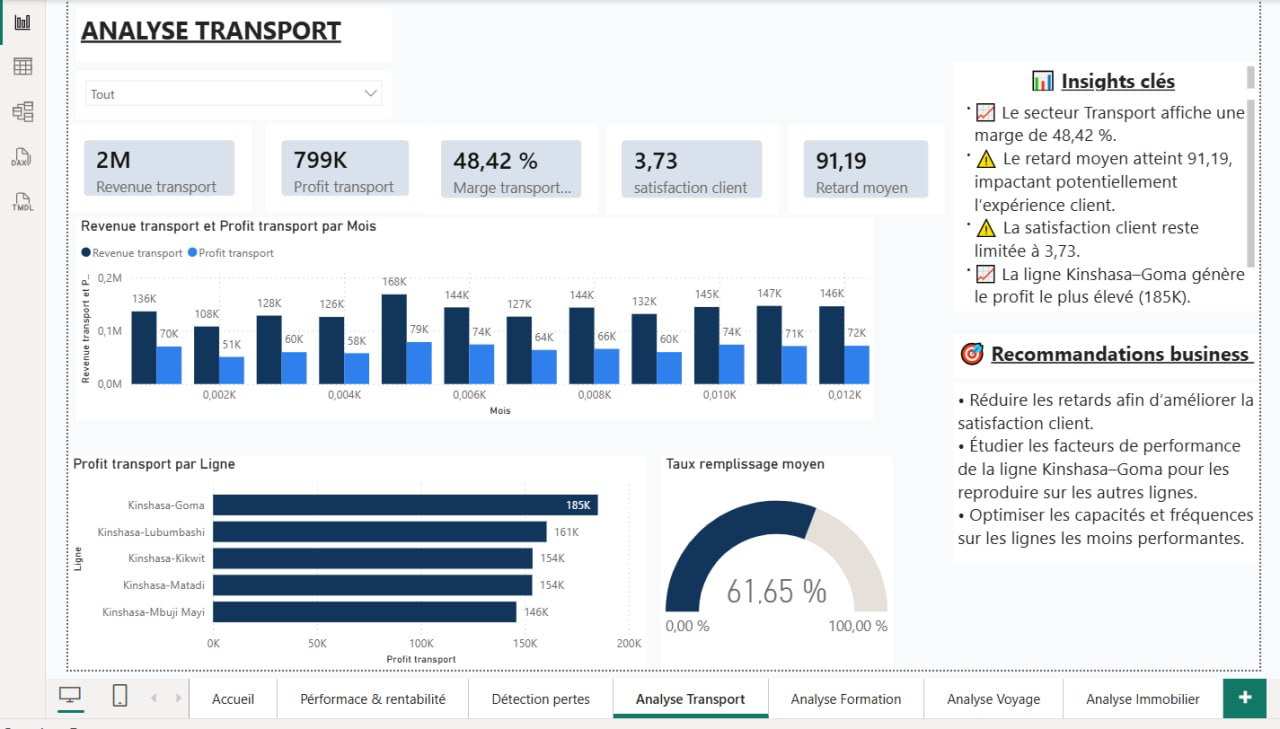

This screenshot's page, from the dashboard's own definition file:
{"tool":"powerbi","page":{"name":"Analyse Transport","canvas":[1280,720],"ordinal":3},"visuals":[{"type":"textbox","box":[8.4,8.4,339,57.9],"z":0},{"type":"cardVisual","fields":{"Data":["Alerts_Opportunities.Revenue transport"]},"box":[0,133.9,196.6,94.1],"z":1000},{"type":"slicer","fields":{"Values":["Calendar.Année","Calendar.Mois","Transport.Ligne","Transport.Statut_Trajet"]},"box":[8.4,76,339,51.9],"z":2000},{"type":"cardVisual","fields":{"Data":["Transport.Profit transport"]},"box":[212.3,133.9,171.3,94.1],"z":3000},{"type":"cardVisual","fields":{"Data":["Transport.Marge transport%"]},"box":[383.6,133.9,185.8,96.5],"z":4000},{"type":"cardVisual","fields":{"Data":["Transport.satisfaction trasport"]},"box":[577.9,133.9,185.8,96.5],"z":5000},{"type":"clusteredBarChart","fields":{"Category":["Transport.Ligne"],"Y":["Transport.Profit transport"]},"box":[0,489.8,622.5,230.4],"z":6000},{"type":"clusteredColumnChart","fields":{"Category":["Calendar.Mois"],"Y":["Alerts_Opportunities.Revenue transport","Transport.Profit transport"]},"box":[8.8,233.8,857.5,218.8],"z":7000},{"type":"cardVisual","fields":{"Data":["Transport.Retard moyen"]},"box":[773.3,133.9,168.9,96.5],"z":8000},{"type":"gauge","fields":{"Y":["Alerts_Opportunities.Taux remplissage moyen"]},"box":[637,489.8,248.5,230.4],"z":9000},{"type":"textbox","box":[950.7,66.4,329.4,36.2],"z":10000},{"type":"textbox","box":[950.7,102.5,329.4,231.6],"z":11000},{"type":"textbox","box":[950.7,359.5,329.4,47.1],"z":12000},{"type":"textbox","box":[950.7,411.4,329.4,194.2],"z":13000}]}

Visuals, with their boxes on the page's 1280x720 design canvas (x1, y1, x2, y2). These are canvas units, not pixel positions in the 1280x729 screenshot, which may show the page scaled, cropped or inside an application window:
textbox: l=8, t=8, r=347, b=66
cardVisual - Alerts_Opportunities.Revenue transport: l=0, t=134, r=197, b=228
slicer - Calendar.Année x Calendar.Mois: l=8, t=76, r=347, b=128
cardVisual - Transport.Profit transport: l=212, t=134, r=384, b=228
cardVisual - Transport.Marge transport%: l=384, t=134, r=569, b=230
cardVisual - Transport.satisfaction trasport: l=578, t=134, r=764, b=230
clusteredBarChart - Transport.Ligne x Transport.Profit transport: l=0, t=490, r=622, b=720
clusteredColumnChart - Calendar.Mois x Alerts_Opportunities.Revenue transport: l=9, t=234, r=866, b=453
cardVisual - Transport.Retard moyen: l=773, t=134, r=942, b=230
gauge - Alerts_Opportunities.Taux remplissage moyen: l=637, t=490, r=886, b=720
textbox: l=951, t=66, r=1280, b=103
textbox: l=951, t=102, r=1280, b=334
textbox: l=951, t=360, r=1280, b=407
textbox: l=951, t=411, r=1280, b=606
